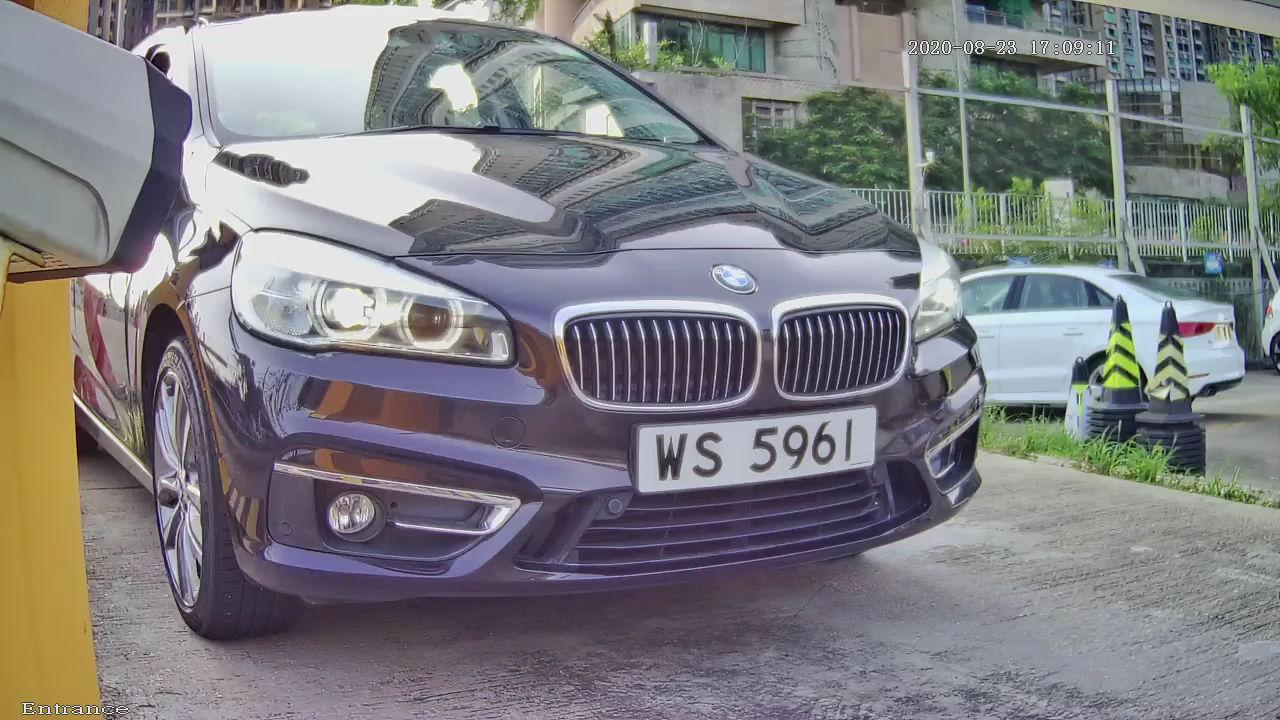Car: (69, 20, 1069, 650)
License Plate: (591, 357, 934, 533)
